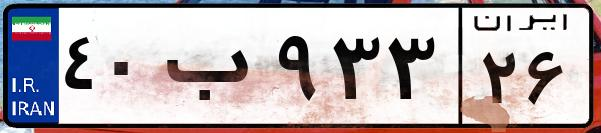0: (110, 28, 158, 98)
2: (475, 38, 525, 113)
3: (385, 28, 445, 110), (330, 28, 385, 110)
4: (57, 26, 110, 100)
6: (525, 38, 570, 115)
9: (270, 28, 330, 110)
ب: (158, 20, 270, 120)
